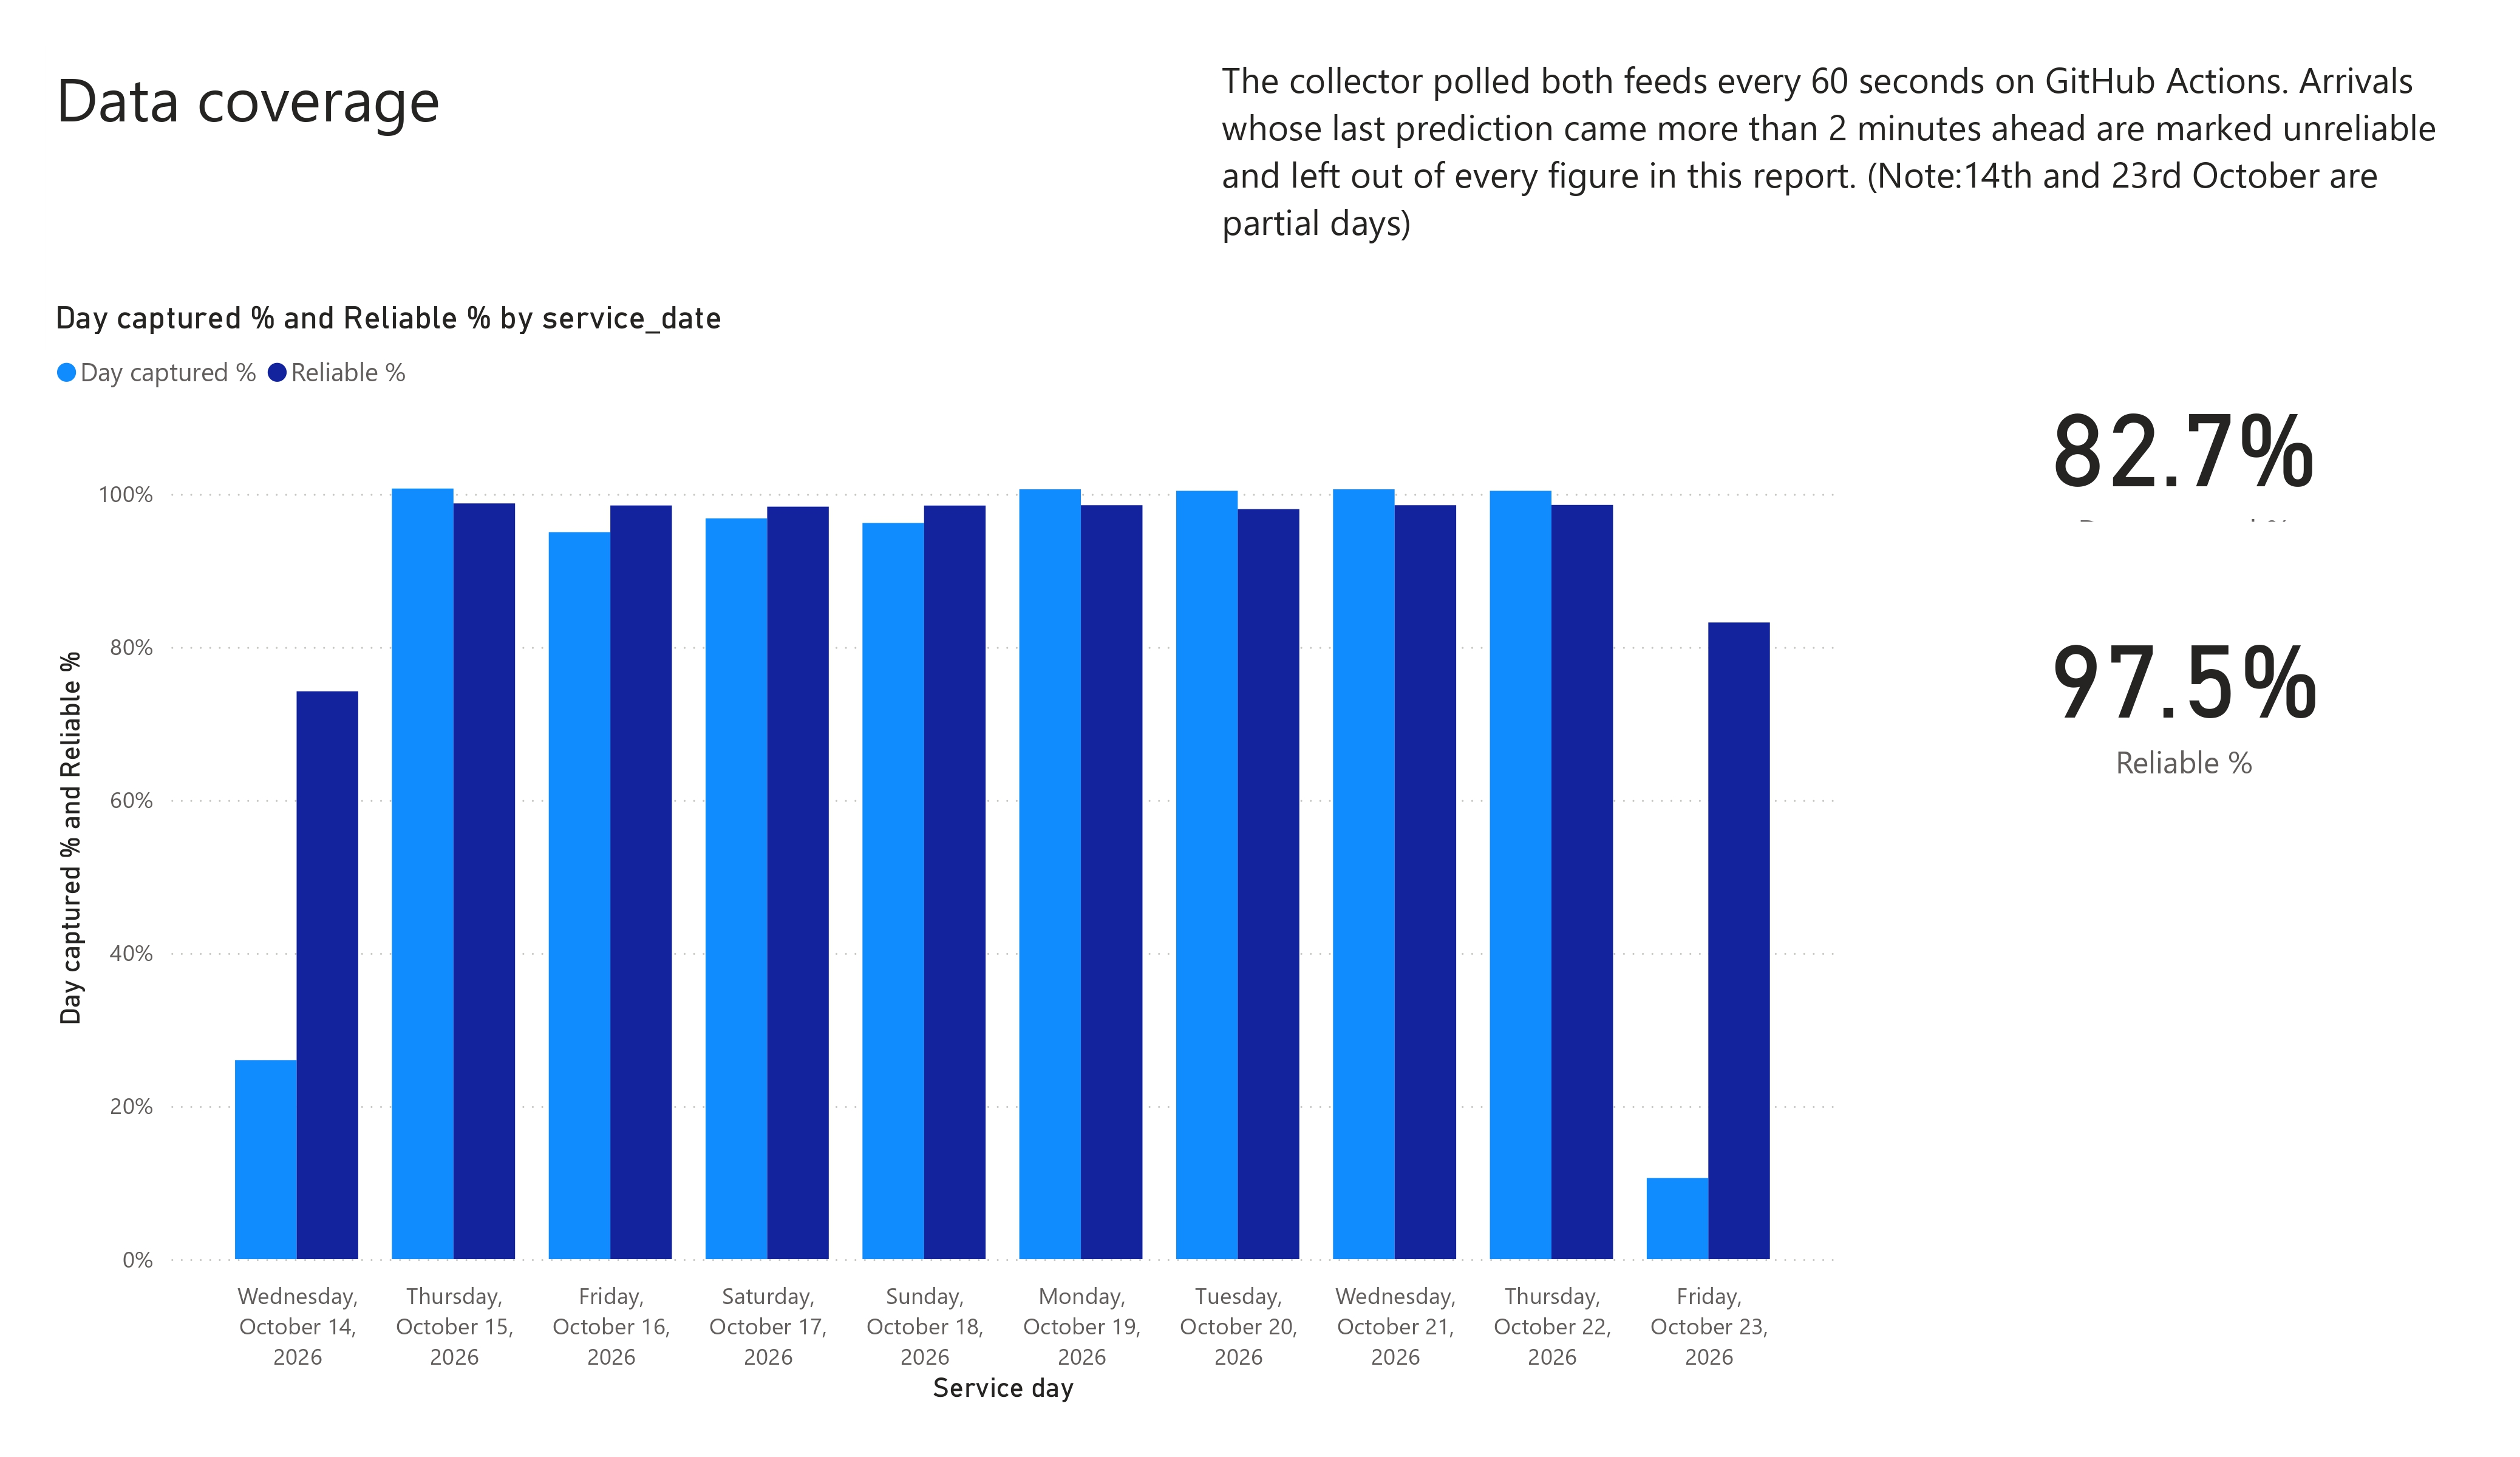

The page's visual inventory and layout, read from the dashboard file:
{"tool":"powerbi","page":{"name":"Data Coverage","canvas":[1280,720],"ordinal":4},"visuals":[{"type":"clusteredColumnChart","fields":{"Y":["_Measures.Day captured %","_Measures.Reliable %"],"Category":["mart_collection_coverage.service_date"]},"box":[0,133.1,948.2,587.3],"z":0},{"type":"card","fields":{"Values":["_Measures.Day captured %"]},"box":[974.3,133.1,306,167.4],"z":1000},{"type":"card","fields":{"Values":["_Measures.Reliable %"]},"box":[974.3,251.1,306,175.6],"z":2000},{"type":"textbox","box":[0,0,381.5,113.9],"z":3000},{"type":"textbox","box":[614.8,0,665.5,113.9],"z":4000}]}

Visuals, with their boxes on the page's 1280x720 design canvas (x1, y1, x2, y2). These are canvas units, not pixel positions in the 2520x1457 screenshot, which may show the page scaled, cropped or inside an application window:
clusteredColumnChart - _Measures.Day captured % x _Measures.Reliable %: [x1=0, y1=133, x2=948, y2=720]
card - _Measures.Day captured %: [x1=974, y1=133, x2=1280, y2=300]
card - _Measures.Reliable %: [x1=974, y1=251, x2=1280, y2=427]
textbox: [x1=0, y1=0, x2=382, y2=114]
textbox: [x1=615, y1=0, x2=1280, y2=114]
